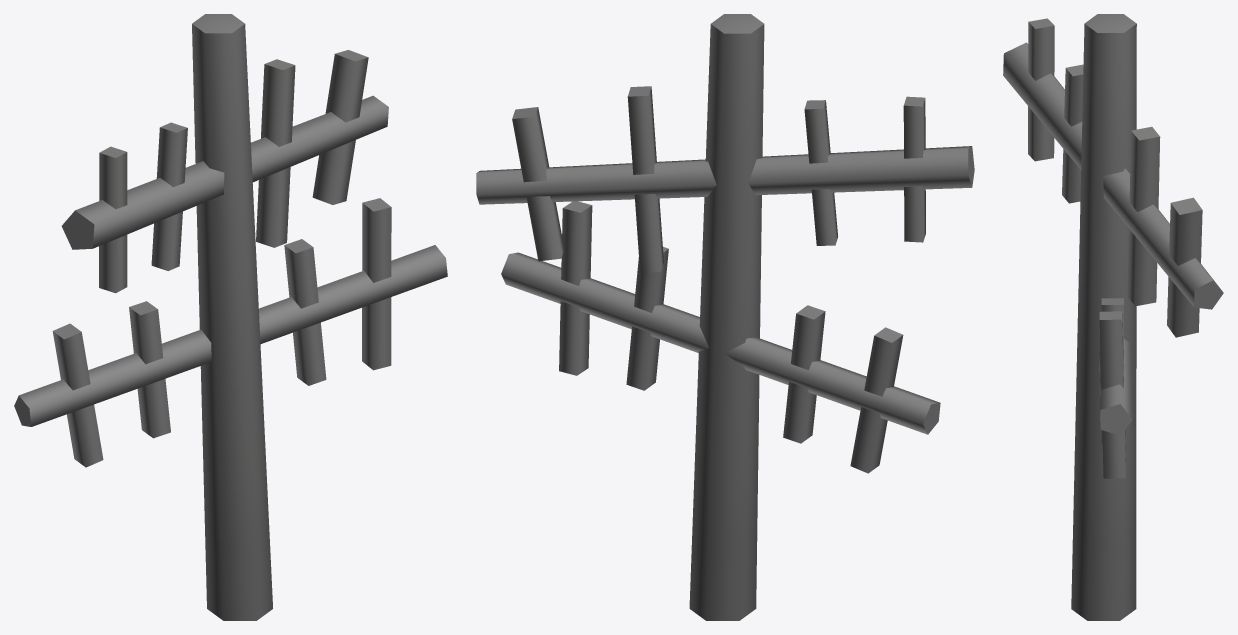
File: Antene_1_D_1.glb
The picture shows the model from 3 angles, left to right: view 1: azimuth 30°, elevation 25°; view 2: azimuth 150°, elevation 25°; view 3: azimuth 270°, elevation 25°; orthographic projection. The views are drawn at different scales.
Parts seen in each view (by area): view 1: Antene_1_D_1; view 2: Antene_1_D_1; view 3: Antene_1_D_1.
Boxes of the visible parts, bbox=[...] form: Antene_1_D_1: bbox=[14, 14, 447, 620]; Antene_1_D_1: bbox=[476, 14, 974, 620]; Antene_1_D_1: bbox=[1003, 14, 1223, 620].
Size of the model in its own units: 0.6719 by 0.9015 by 0.3108.
1 material, 1 textured.
